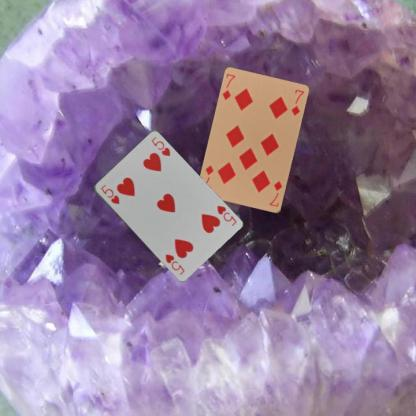5h: (214, 203, 237, 227), (98, 182, 121, 205)
7d: (220, 71, 236, 102), (267, 179, 284, 208)
